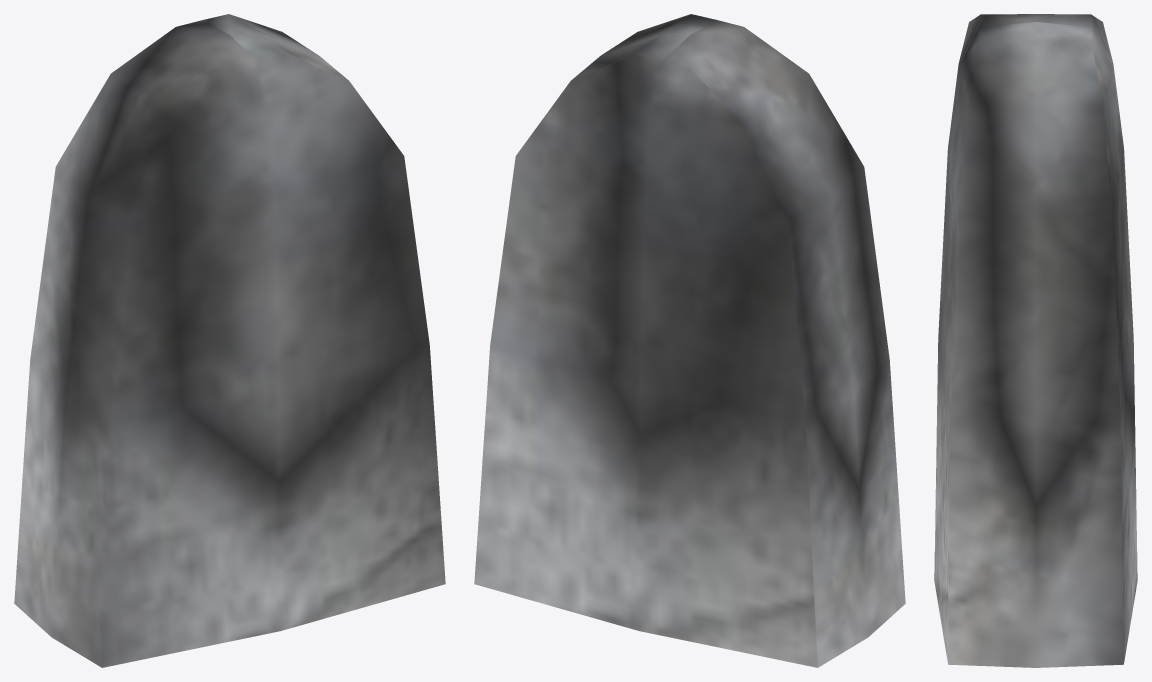
The model's file is Grave.gltf.
3 views of the same model, side by side, from view 1: azimuth 30°, elevation 25°; view 2: azimuth 150°, elevation 25°; view 3: azimuth 270°, elevation 25° (orthographic).
Visible parts, largest first — view 1: Grave; view 2: Grave; view 3: Grave.
Part boxes in pixels (x1=…): Grave: x1=14, y1=14, x2=445, y2=667; Grave: x1=474, y1=14, x2=905, y2=667; Grave: x1=934, y1=14, x2=1137, y2=667.
Bounding box in the file's own units: 4.6 × 6.89 × 2.27.
Materials: 1 (1 with a texture image).
